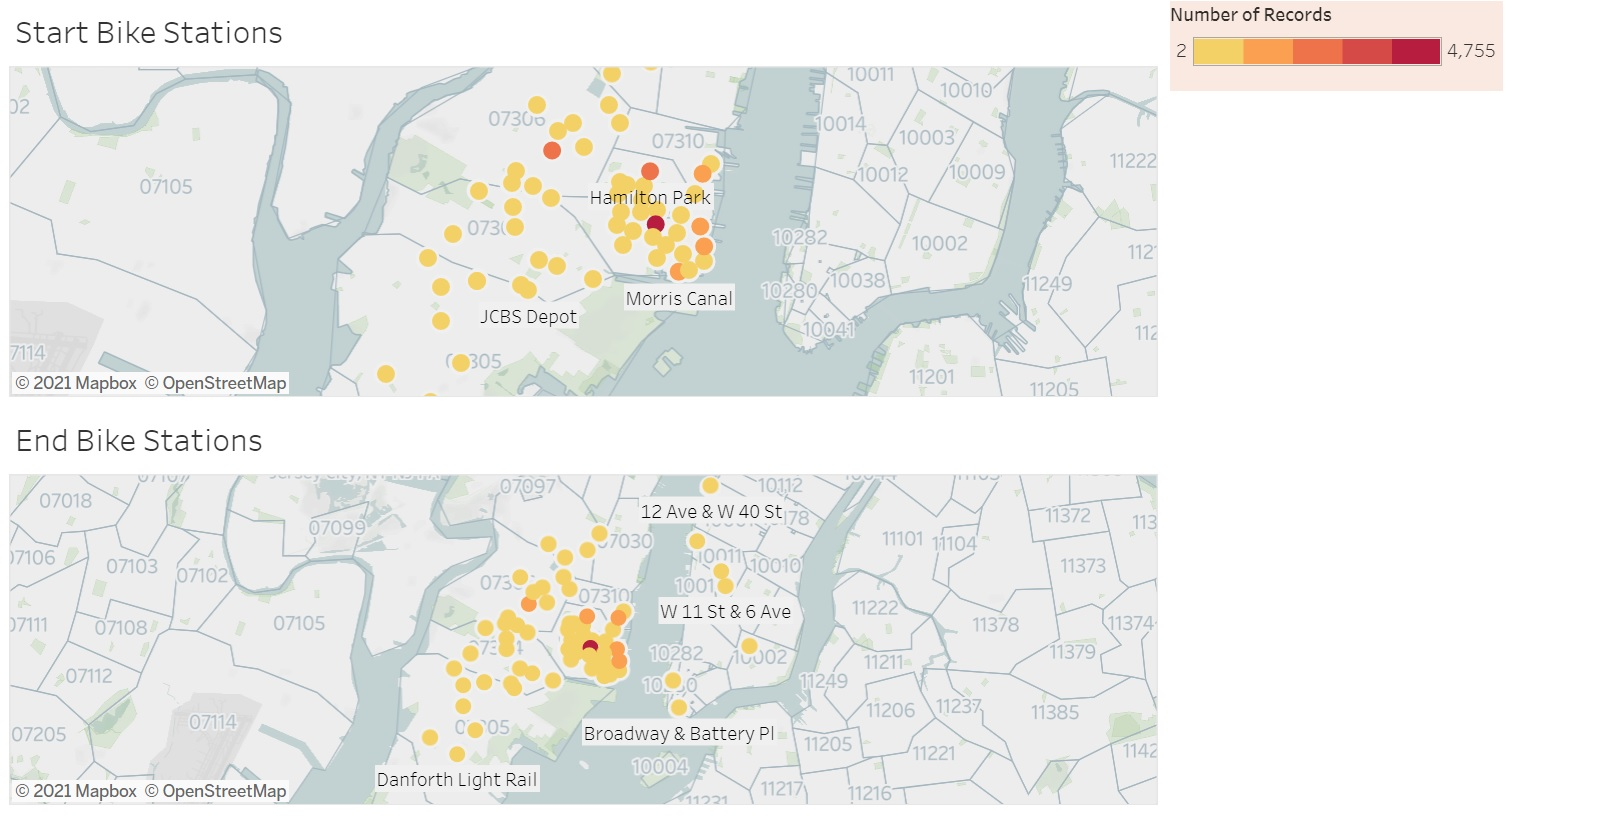

What the dashboard file says about the page in this screenshot:
{"tool":"tableau","page":{"name":"Dashboard 1","canvas":[1000,1000],"units":"permille","ordinal":0},"visuals":[{"type":"worksheet","title":"Start Bike Stations","mark":"Automatic","rows":["start station latitude"],"cols":["start station longitude"],"box":[7.8,9.8,758.8,490.2]},{"type":"legend","title":"Start Bike Stations","param":"[federated.0w0p6nc0lvmxvd1b075hr0opldf6].[sum:Number of Records:qk]","box":[766.7,9.8,225.5,98.9]},{"type":"worksheet","title":"End Bike Stations","mark":"Automatic","rows":["end station latitude"],"cols":["end station longitude"],"box":[7.8,500,758.8,490.2]}]}

Visuals, with their boxes on the dashboard's canvas, which has no fixed pixel size, in thousandths of its width and height (x1, y1, x2, y2). These are canvas units, not pixel positions in the 1612x830 screenshot, which may show the page scaled, cropped or inside an application window:
"Start Bike Stations" worksheet: 8/10/767/500
"Start Bike Stations" legend: 767/10/992/109
"End Bike Stations" worksheet: 8/500/767/990
